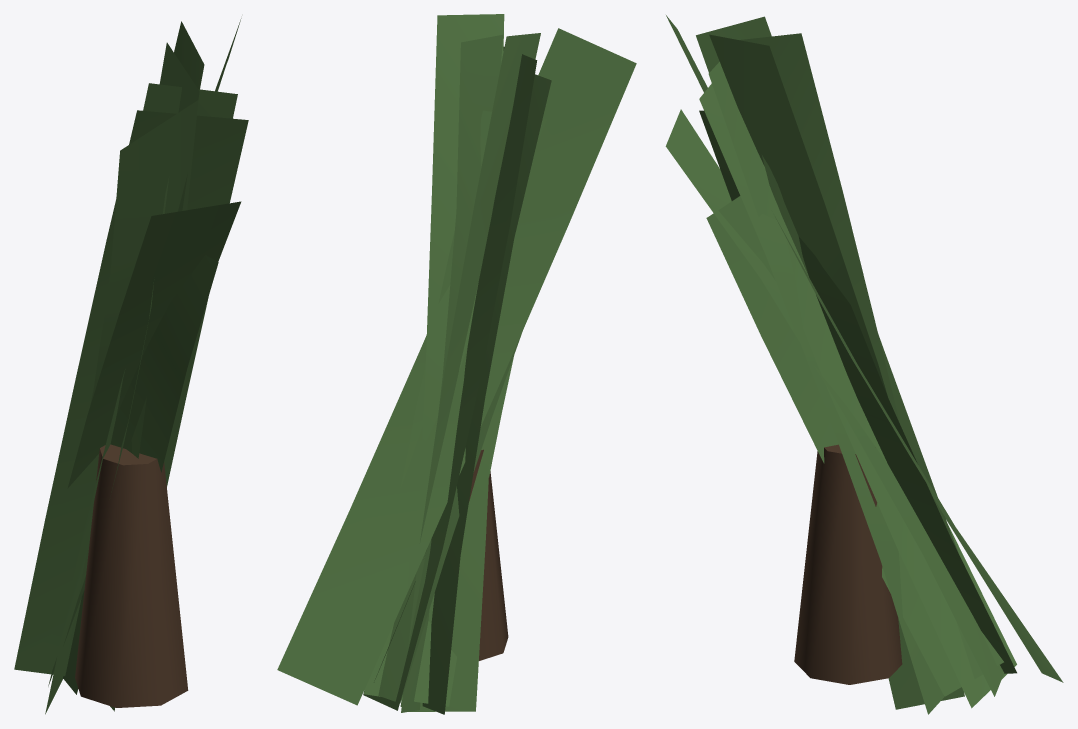
The model's file is plant_fern_high.glb.
The picture shows the model from 3 angles, left to right: view 1: azimuth 30°, elevation 25°; view 2: azimuth 150°, elevation 25°; view 3: azimuth 270°, elevation 25°; orthographic projection. The views are drawn at different scales.
Bounding box in the file's own units: 0.3297 × 1.1 × 0.5749.
